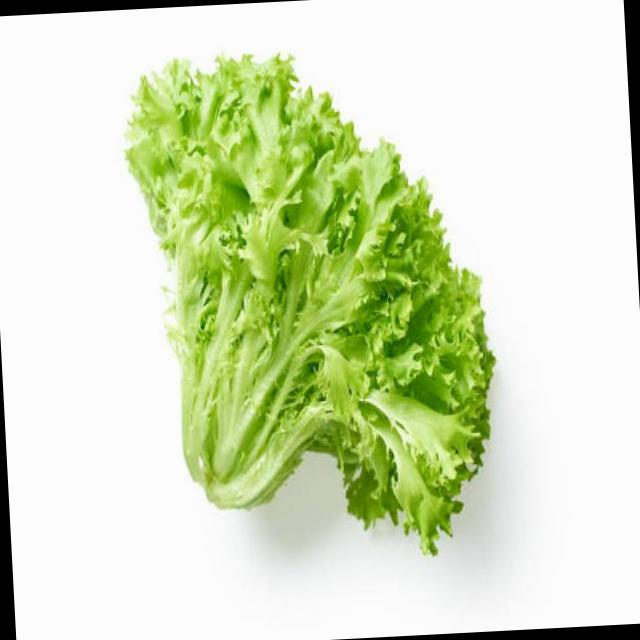Lettuce-Ready-to-Harvest: (122, 55, 496, 559)
